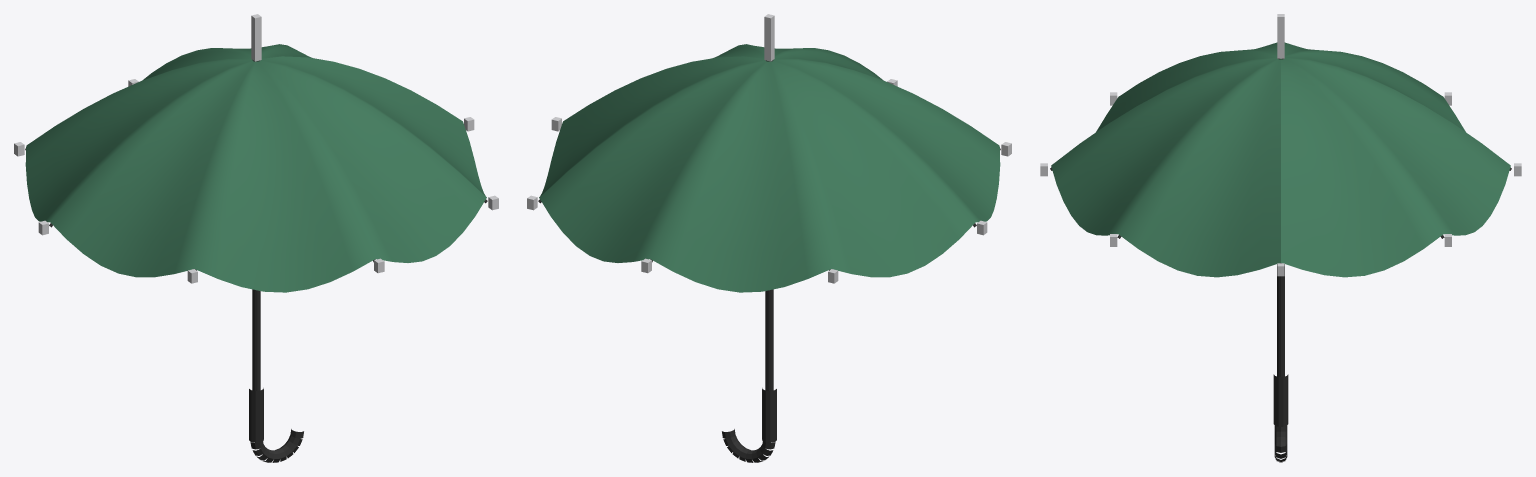
The model's file is verde.gltf.
3 renders of one model, left to right at view 1: azimuth 30°, elevation 25°; view 2: azimuth 150°, elevation 25°; view 3: azimuth 270°, elevation 25°, orthographic. The views are drawn at different scales.
Visible parts, largest first — view 1: carro; view 2: carro; view 3: carro.
Boxes of the visible parts, <box> form: carro: <box>14,14,498,462</box>; carro: <box>527,14,1011,462</box>; carro: <box>1040,14,1521,462</box>.
Bounding box in the file's own units: 1.05 × 1.04 × 1.05.
